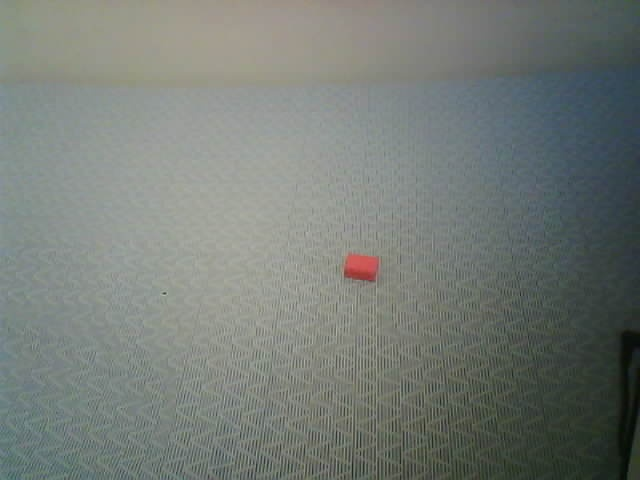lego: (343, 253, 380, 281)
